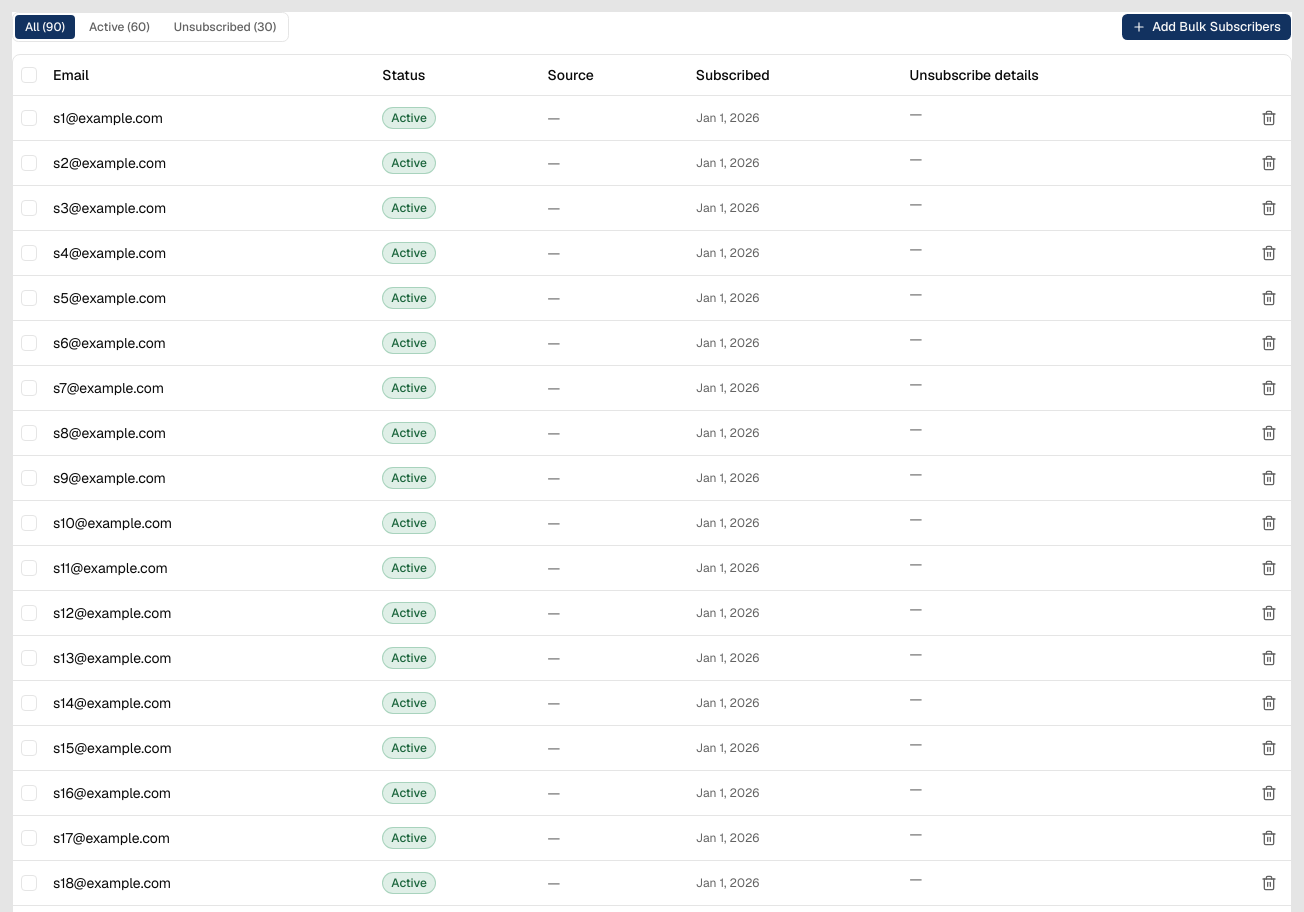
Test case: SubscriberList — cross-page 'select all matching filter' (Pass 8 §2, Option B) › choosing it shows a banner naming the exact server-provided total, not the page size
Click the checkbox named "Select all subscribers on this page" at [29, 75], box [21,67,37,83]
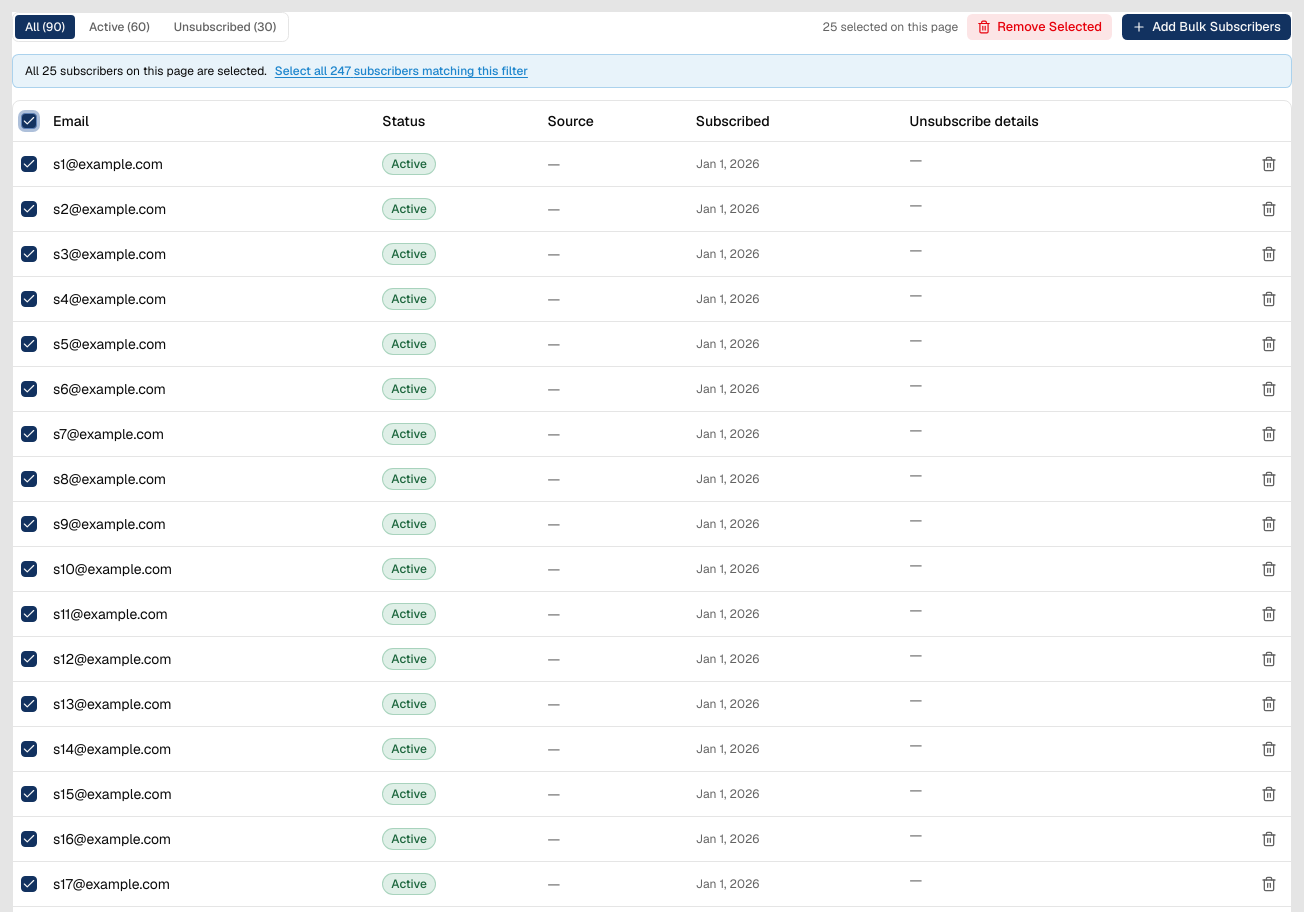
Click the button "Select all 247 subscribers matching this filter" at [401, 71], box [275,63,528,79]
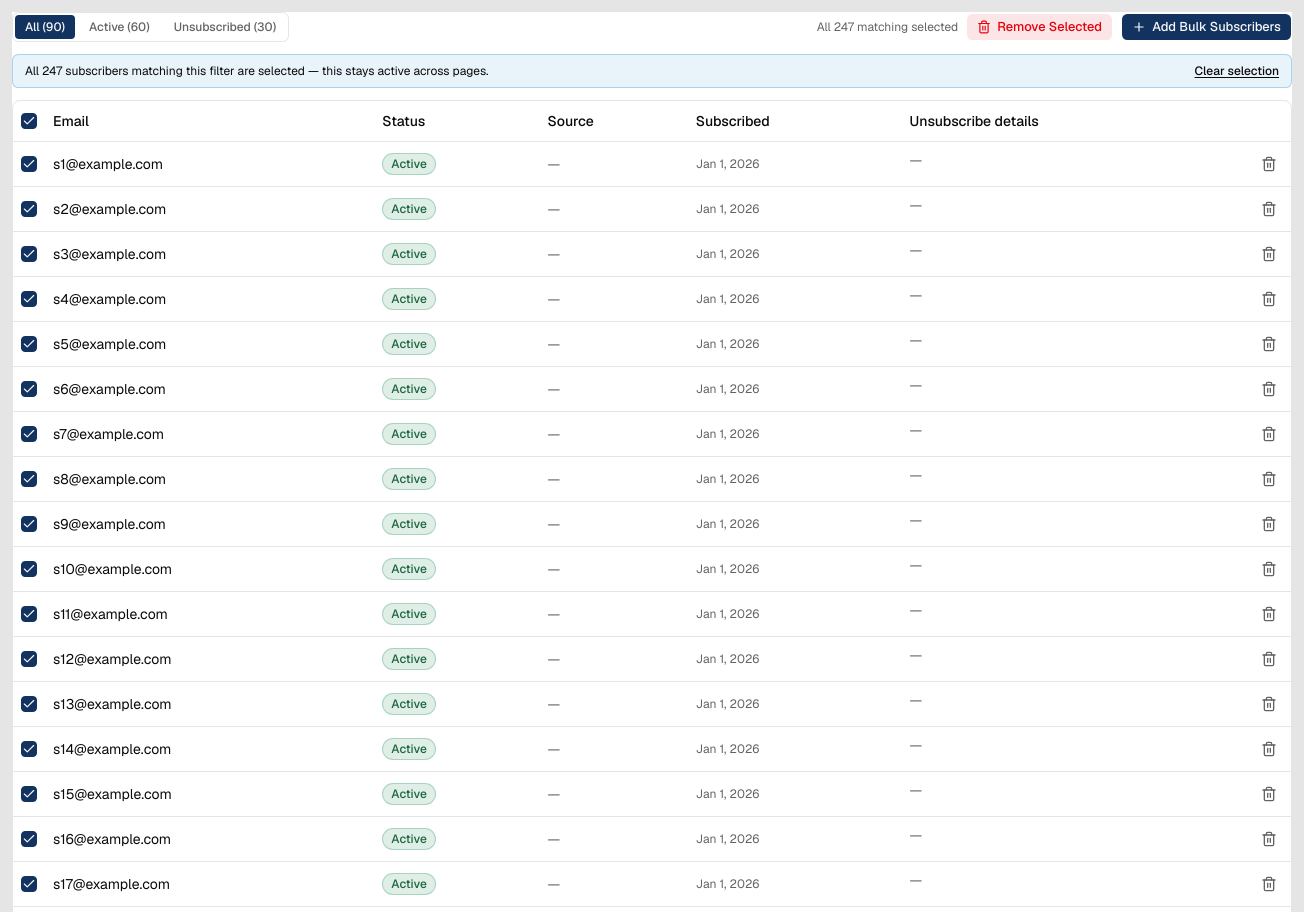
Result: the text "All 247 subscribers matching this filter are selected" is shown at [25,63,488,79]
Result: the text "All 247 matching selected" is shown at [817,19,958,35]
